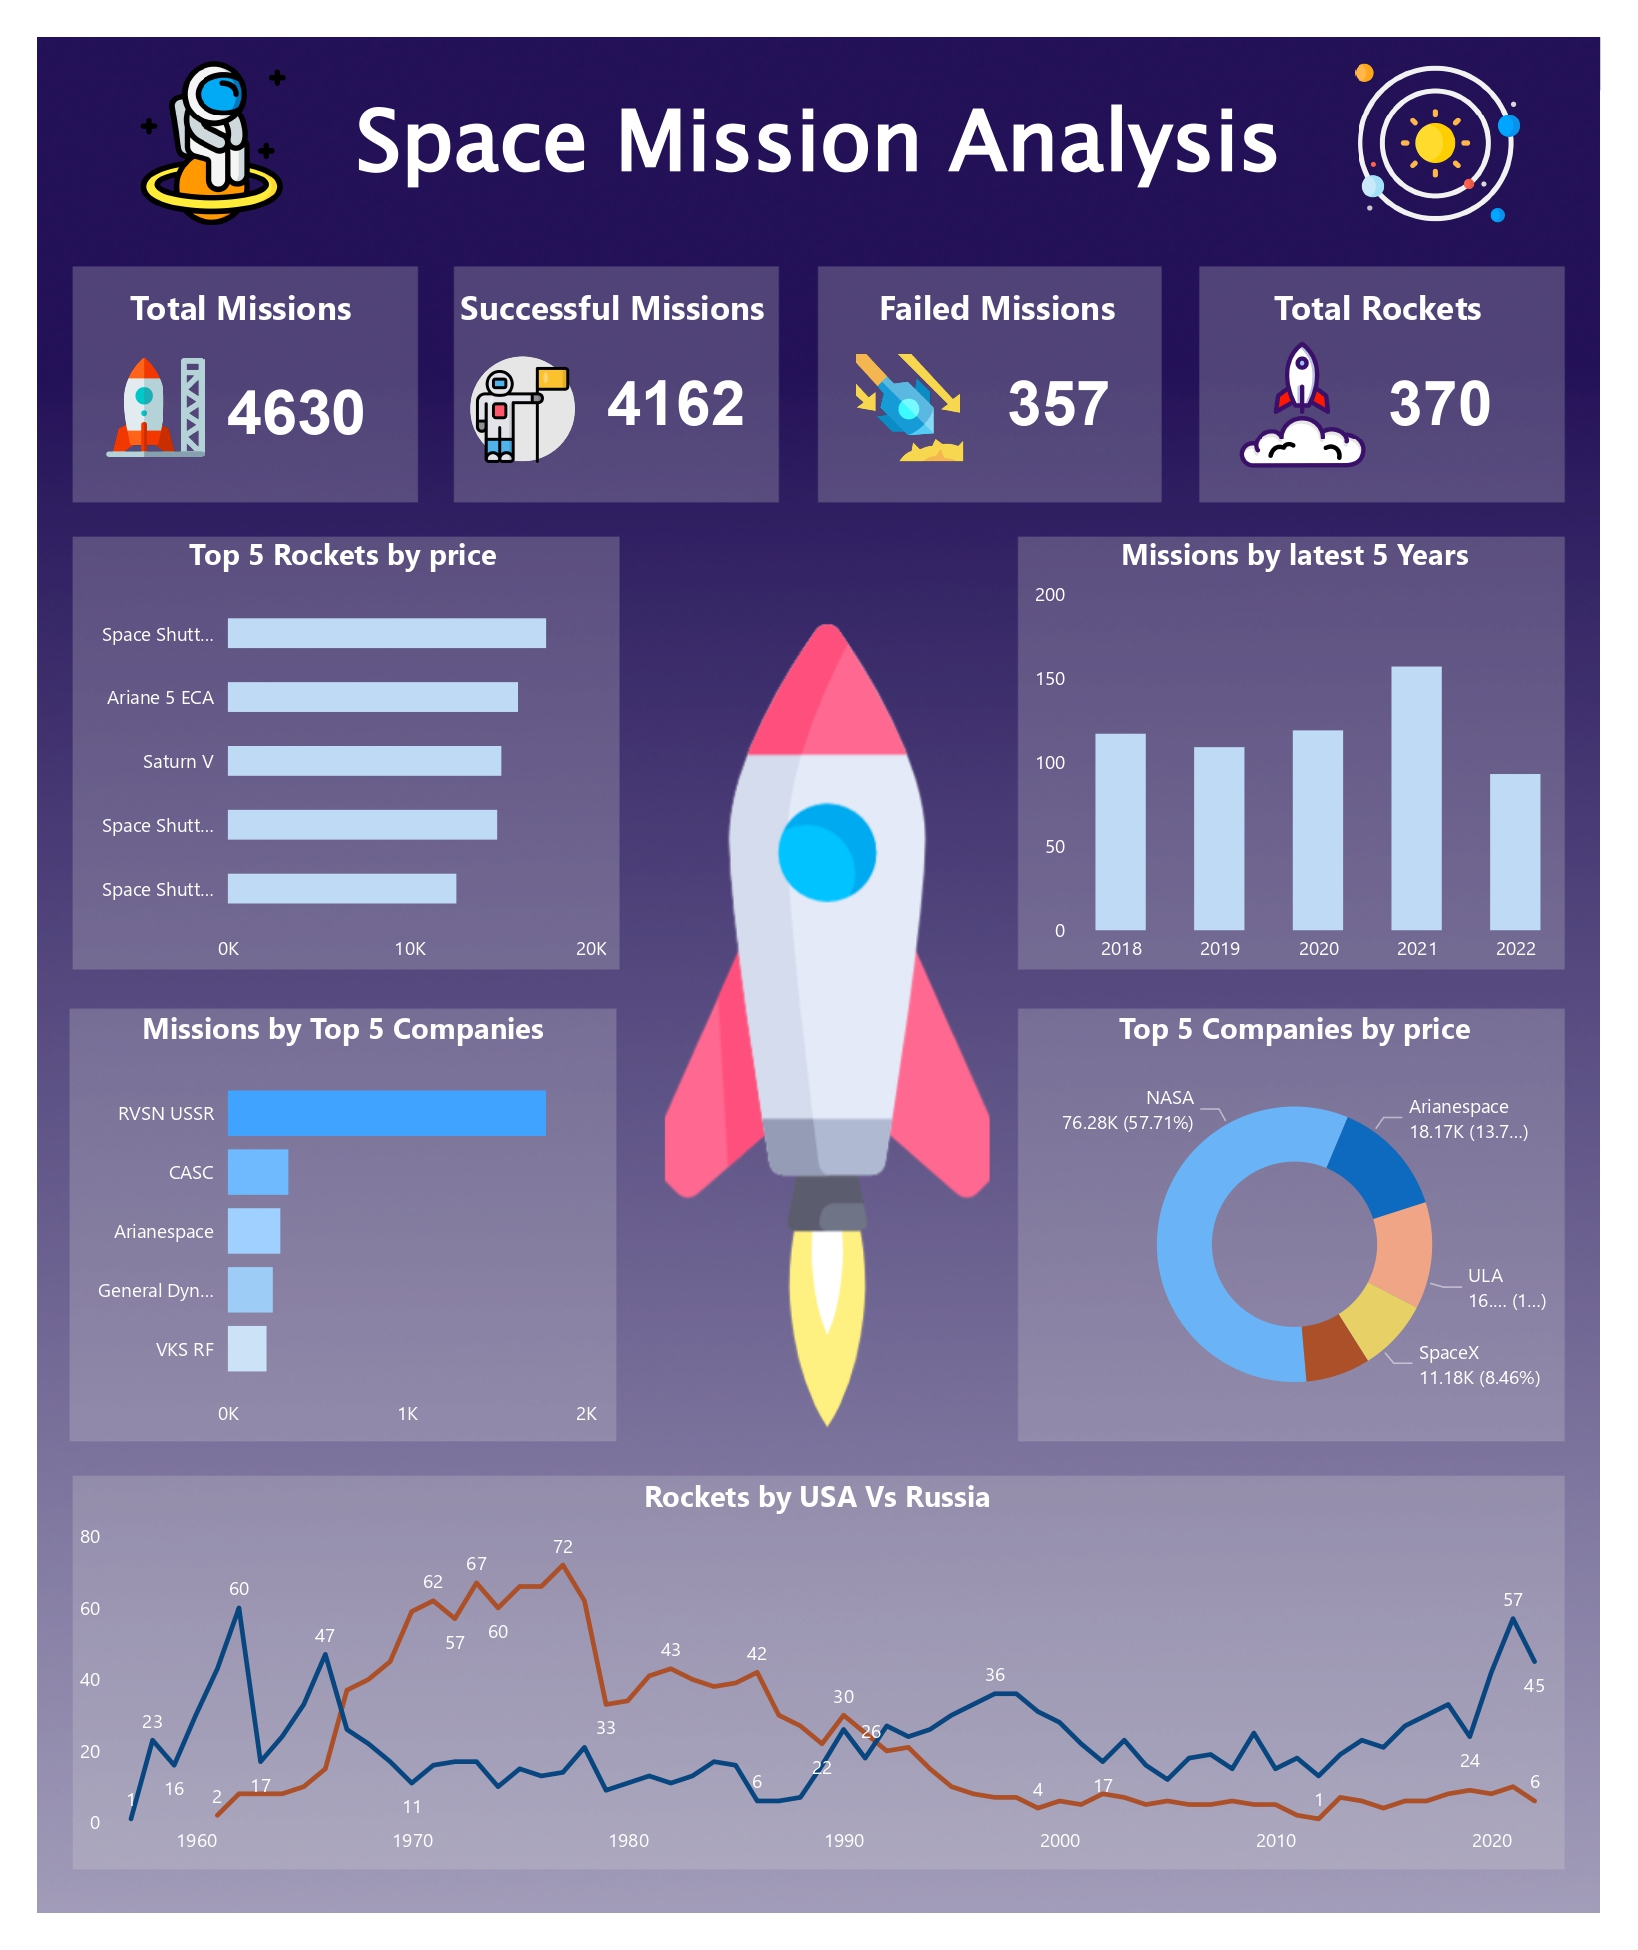

The dashboard page shown, as its layout file describes it:
{"tool":"powerbi","page":{"name":"Space mission","canvas":[1000,1200],"ordinal":0},"visuals":[{"type":"card","title":"Total Mission","fields":{"Values":["CountNonNull(space_missions.Mission)"]},"box":[93.2,200.3,144.8,75.4],"z":0},{"type":"textbox","box":[21.8,152.7,216.2,47.6],"z":1000},{"type":"image","box":[269.8,194.4,81.3,87.3],"z":2000},{"type":"card","fields":{"Values":["CountNonNull(space_missions.Successful Mission)"]},"box":[351.1,188.4,115,87.3],"z":3000},{"type":"textbox","box":[261.9,152.5,212.2,44.2],"z":4000},{"type":"textbox","box":[515.7,152.7,196.4,47.6],"z":5000},{"type":"card","fields":{"Values":["CountNonNull(space_missions.Failed Mission)"]},"box":[595,188.4,117,87.3],"z":6000},{"type":"textbox","box":[759.7,152.7,196.4,47.6],"z":7000},{"type":"card","fields":{"Values":["Count(space_missions.Rocket)"]},"box":[839,188.4,117,87.3],"z":8000},{"type":"image","box":[759.7,176.5,99.2,117],"z":9000},{"type":"image","box":[515.7,196.4,85.3,81.3],"z":10000},{"type":"image","box":[37.7,200.3,75.4,73.4],"z":11000},{"type":"donutChart","title":"Top 5 Companies by price","fields":{"Category":["space_missions.Company"],"Y":["Sum(space_missions.Price)"]},"box":[632.7,620.8,343.1,277.7],"z":12000},{"type":"lineChart","title":"Rockets by USA Vs Russia","fields":{"Category":["space_missions.Date.Variation.Date Hierarchy.Year"],"Y":["CountNonNull(space_missions.Rocket)"],"Series":["space_missions.Location"]},"box":[21.8,920.3,954,251.9],"z":12001},{"type":"clusteredColumnChart","title":"Missions by latest 5 Years","fields":{"Category":["space_missions.Date.Variation.Date Hierarchy.Year"],"Y":["space_missions.Count of mission"]},"box":[632.7,317.4,343.1,283.6],"z":12002},{"type":"clusteredBarChart","title":"Top 5 Rockets by price","fields":{"Y":["Sum(space_missions.Price)"],"Category":["space_missions.Rocket"]},"box":[21.8,317.4,347.1,283.6],"z":12003},{"type":"barChart","title":"Missions by Top 5 Companies ","fields":{"Category":["space_missions.Company"],"Y":["space_missions.Count of mission"]},"box":[21.8,620.8,347.1,277.7],"z":12004},{"type":"textbox","box":[0,21.8,999.7,91.2],"z":12005},{"type":"image","box":[31.7,9.9,160.7,115],"z":12006},{"type":"image","box":[809.3,9.9,172.6,115],"z":12007}]}

Visuals, with their boxes in screenshot pixels (x1, y1, x2, y2):
"Total Mission" card: 183/350/409/468
textbox: 72/276/409/350
image: 459/341/586/478
card - CountNonNull(space_missions.Successful Mission): 586/332/766/468
textbox: 447/276/779/345
textbox: 844/276/1151/350
card - CountNonNull(space_missions.Failed Mission): 967/332/1150/468
textbox: 1225/276/1532/350
card - Count(space_missions.Rocket): 1349/332/1532/468
image: 1225/313/1380/496
image: 844/344/977/471
image: 96/350/214/465
"Top 5 Companies by price" donutChart: 1026/1007/1563/1441
"Rockets by USA Vs Russia" lineChart: 72/1475/1563/1869
"Missions by latest 5 Years" clusteredColumnChart: 1026/533/1563/977
"Top 5 Rockets by price" clusteredBarChart: 72/533/614/977
"Missions by Top 5 Companies " barChart: 72/1007/614/1441
textbox: 38/72/1600/214
image: 87/53/338/233
image: 1302/53/1572/233
